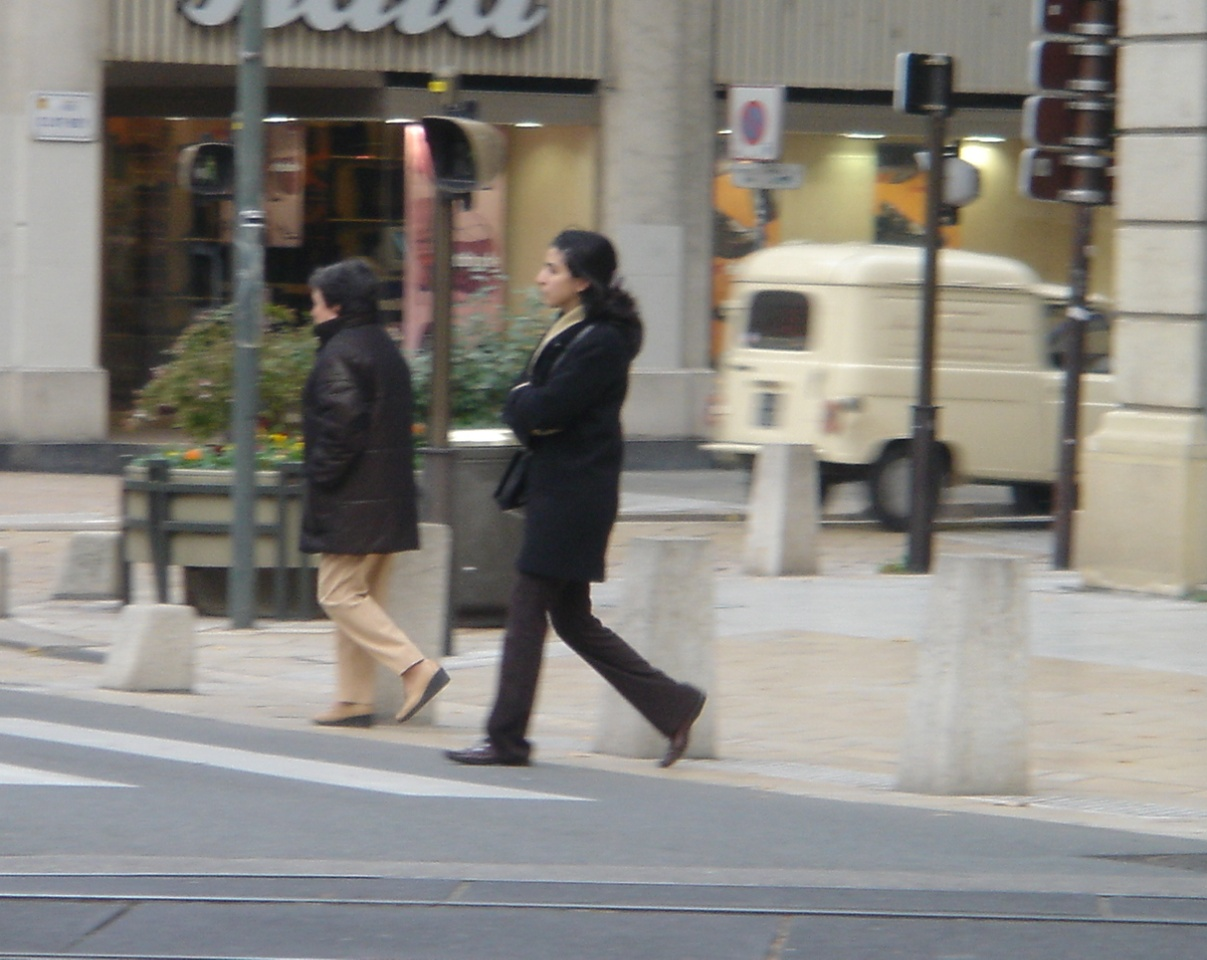person: (486, 222, 653, 765), (292, 251, 425, 729)
